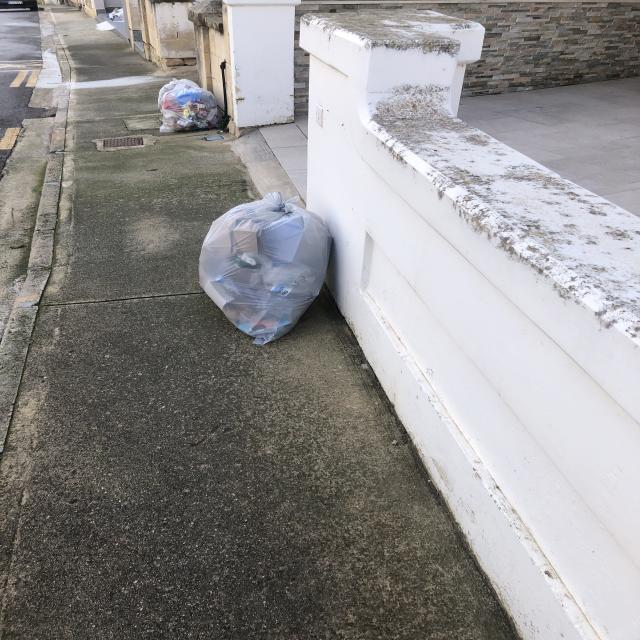Recycled Waste -Grey or Green Bag-: (199, 192, 332, 348), (161, 86, 219, 134), (159, 79, 201, 111)
